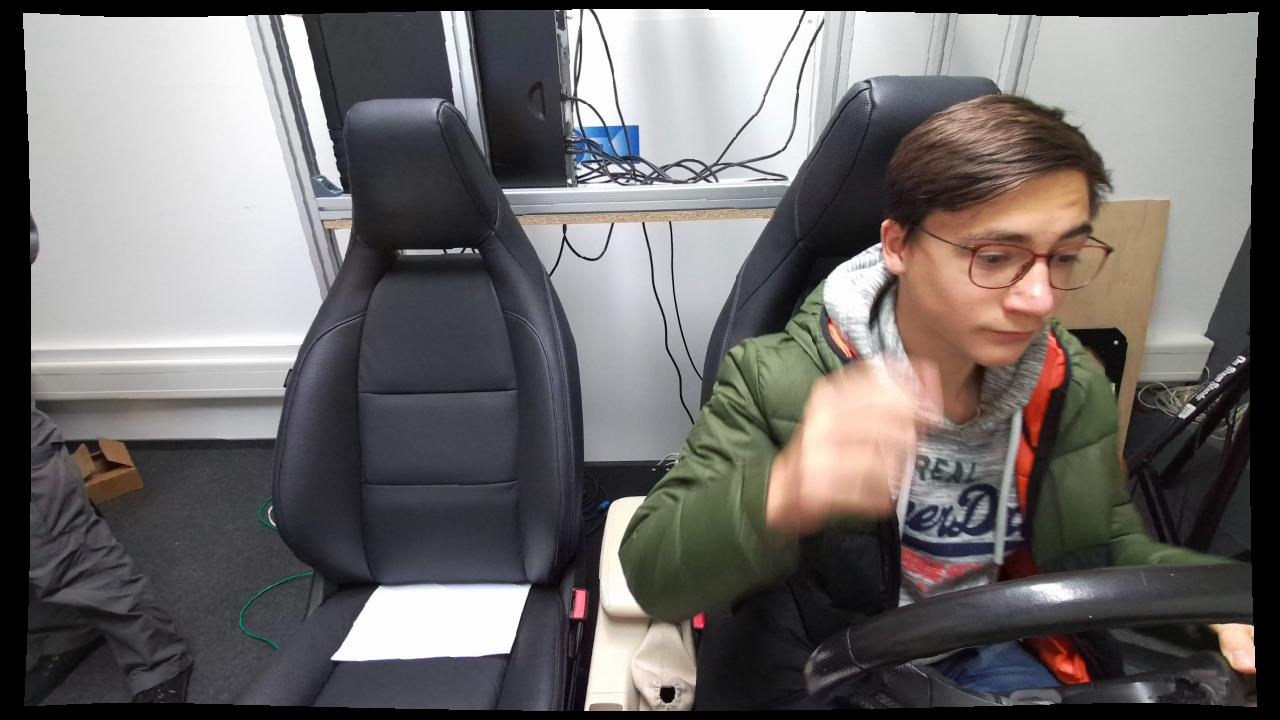Distracted: (616, 93, 1125, 712)
